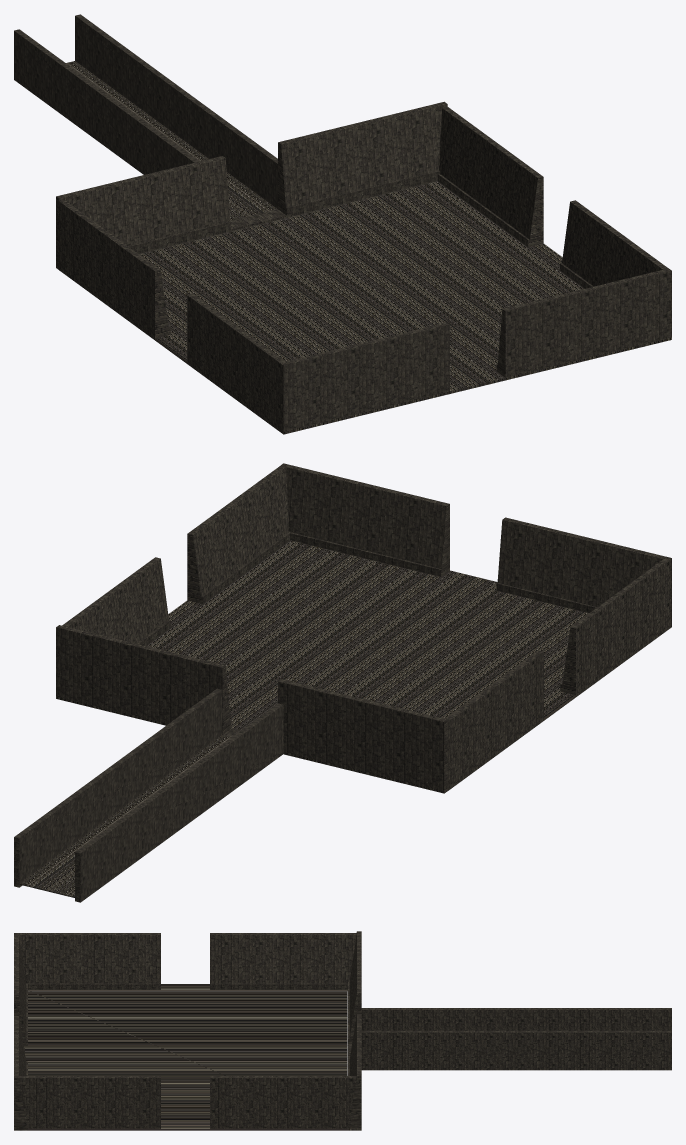
File: RnHall.fbx
3 renders of one model, top to bottom at view 1: azimuth 30°, elevation 25°; view 2: azimuth 150°, elevation 25°; view 3: azimuth 270°, elevation 25°, orthographic. The views are drawn at different scales.
Parts seen in each view (by area): view 1: polySurface33, pCube66; view 2: polySurface33, pCube66; view 3: polySurface33, pCube66.
Part boxes in pixels (x1,y1,x2,y2): polySurface33: (14,14,671,433); pCube66: (66,61,671,434); polySurface33: (14,463,671,902); pCube66: (19,540,588,897); polySurface33: (14,931,671,1130); pCube66: (23,984,347,1130).
Bounding box in the file's own units: 70.71 × 12.46 × 136.
